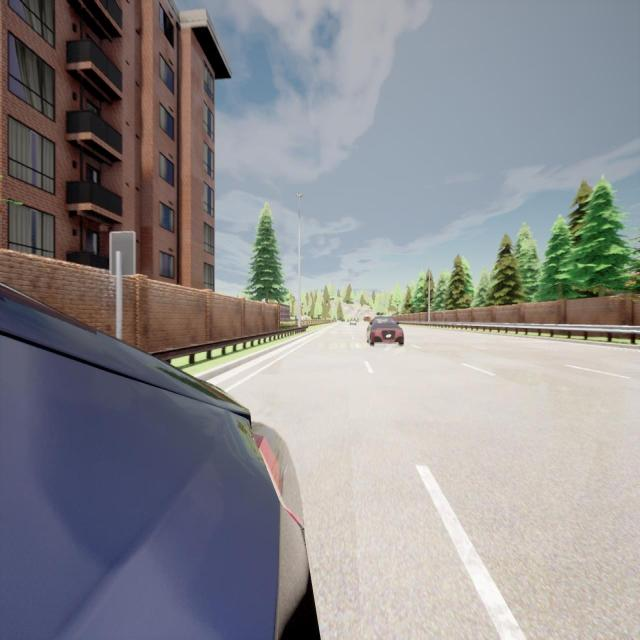Traffic_Signs: (108, 231, 136, 276)
Vehicle: (0, 284, 318, 638), (366, 317, 404, 348), (349, 318, 358, 327), (363, 316, 373, 322)
